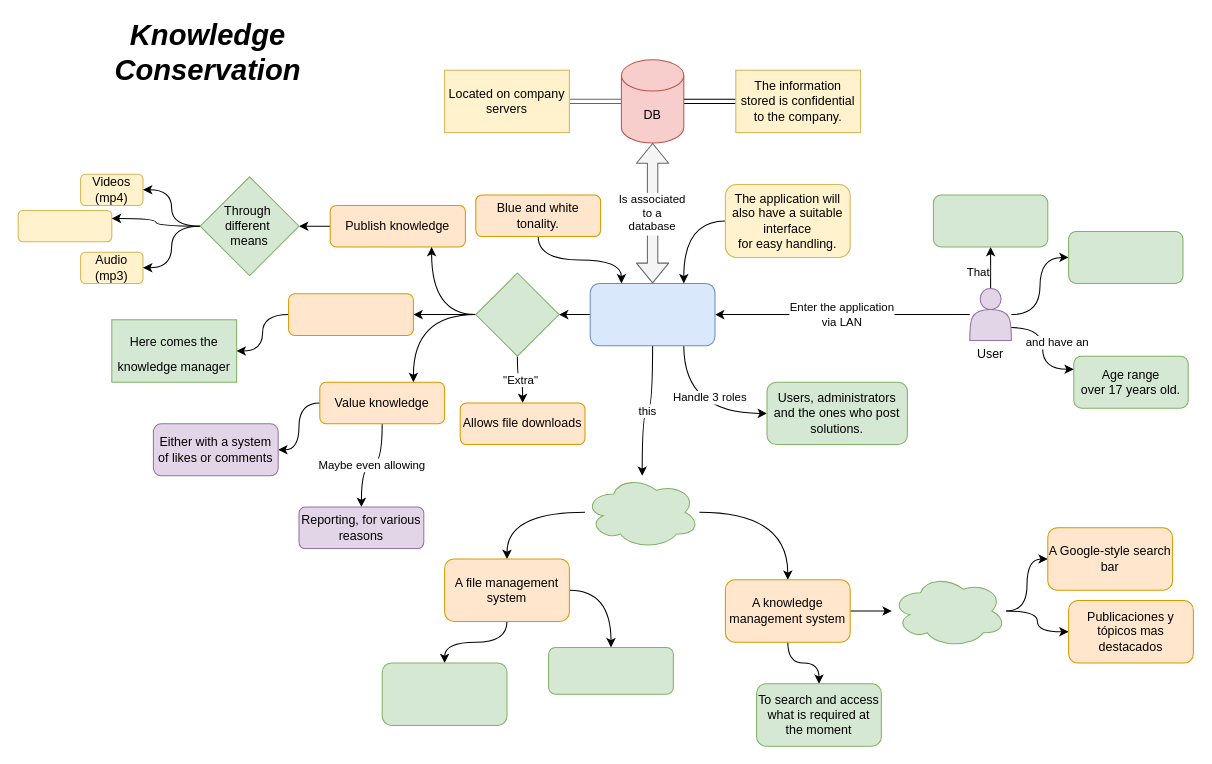
The diagram is 1212 pixels wide and 764 high, and some of its shapes have lost their labels. Each missing label, with the centre of its shape:
"App" belongs at (652,314).
"Consult knowledge" belongs at (350,314).
"Control uploaded files." belongs at (610,670).
"Documents (pdf, ppt)" belongs at (64,226).
"Has" belongs at (641,512).
"Has his own account" belongs at (990,220).
"It allows" belongs at (517,314).
"That allows you to control the type of file uploaded and the size" belongs at (444,693).
"The user will see to enter." belongs at (948,610).
"They can be identified with aliases." belongs at (1125,256).
